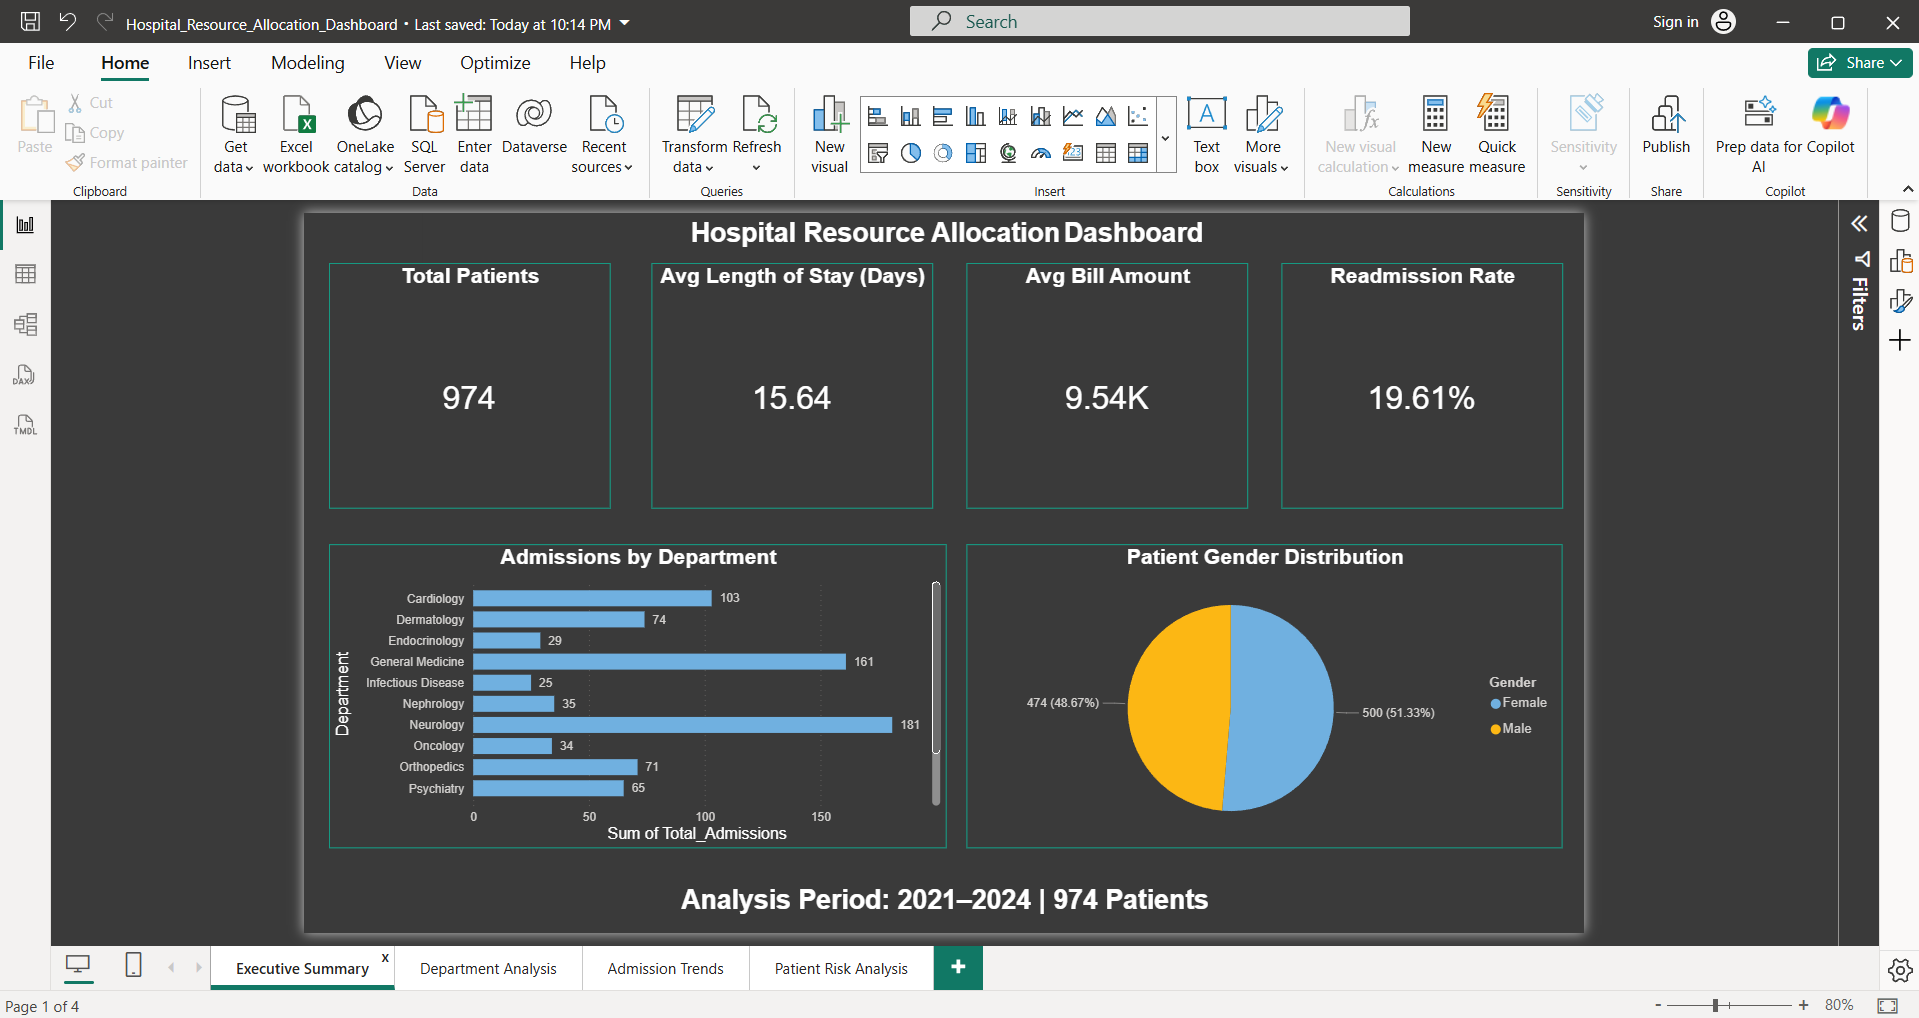

The page's visual inventory and layout, read from the dashboard file:
{"tool":"powerbi","page":{"name":"Executive Summary","canvas":[1280,720],"ordinal":0},"visuals":[{"type":"card","title":"Total Patients","fields":{"Values":["CountNonNull(Patients.Patient ID)"]},"box":[24.9,49.8,281.2,245.6],"z":5},{"type":"card","title":"Readmission Rate","fields":{"Values":["Avg(Patients.Readmission Risk)"]},"box":[977.1,49.8,281.2,245.6],"z":6},{"type":"card","title":"Avg Bill Amount","fields":{"Values":["Avg(Patients.Bill Amount)"]},"box":[662.1,49.8,281.2,245.6],"z":7},{"type":"card","title":" Avg Length of Stay (Days)","fields":{"Values":["Avg(Patients.Length of Stay)"]},"box":[347.1,49.8,281.2,245.6],"z":8},{"type":"clusteredBarChart","title":"Admissions by Department","fields":{"Category":["Dept Summary.Department"],"Y":["Sum(Dept Summary.Total_Admissions)"]},"box":[24.9,331,617.6,304.3],"z":9},{"type":"pieChart","title":"Patient Gender Distribution","fields":{"Category":["Patients.Gender"],"Y":["CountNonNull(Patients.Patient ID)"]},"box":[662.1,331,596.2,304.3],"z":10},{"type":"textbox","box":[119.2,0,1048.3,49.8],"z":11},{"type":"textbox","box":[99.7,667.4,1082.1,53.4],"z":12}]}

Visuals, with their boxes on the page's 1280x720 design canvas (x1, y1, x2, y2). These are canvas units, not pixel positions in the 1919x1018 screenshot, which may show the page scaled, cropped or inside an application window:
"Total Patients" card: pyautogui.locateOnScreen(25, 50, 306, 295)
"Readmission Rate" card: pyautogui.locateOnScreen(977, 50, 1258, 295)
"Avg Bill Amount" card: pyautogui.locateOnScreen(662, 50, 943, 295)
" Avg Length of Stay (Days)" card: pyautogui.locateOnScreen(347, 50, 628, 295)
"Admissions by Department" clusteredBarChart: pyautogui.locateOnScreen(25, 331, 642, 635)
"Patient Gender Distribution" pieChart: pyautogui.locateOnScreen(662, 331, 1258, 635)
textbox: pyautogui.locateOnScreen(119, 0, 1168, 50)
textbox: pyautogui.locateOnScreen(100, 667, 1182, 721)
